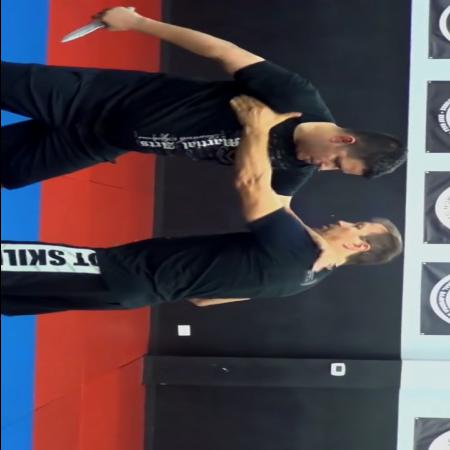long weapon: (53, 4, 140, 44)
